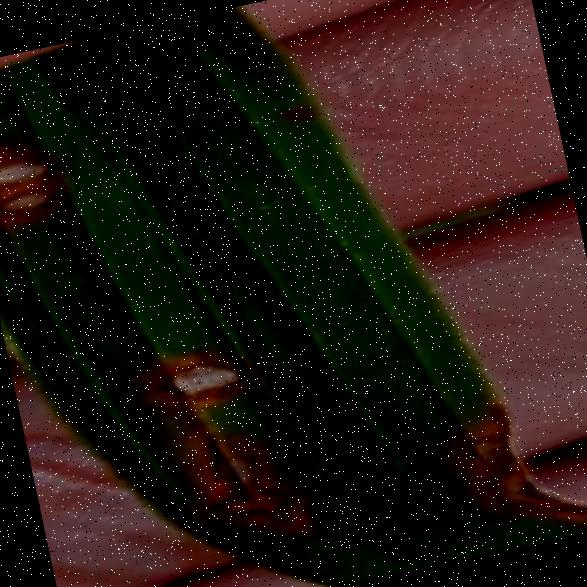Leaf_smut: (107, 300, 267, 433), (432, 380, 536, 486), (485, 446, 587, 547), (159, 421, 273, 502), (209, 470, 313, 545), (0, 130, 71, 201), (0, 177, 77, 233)
